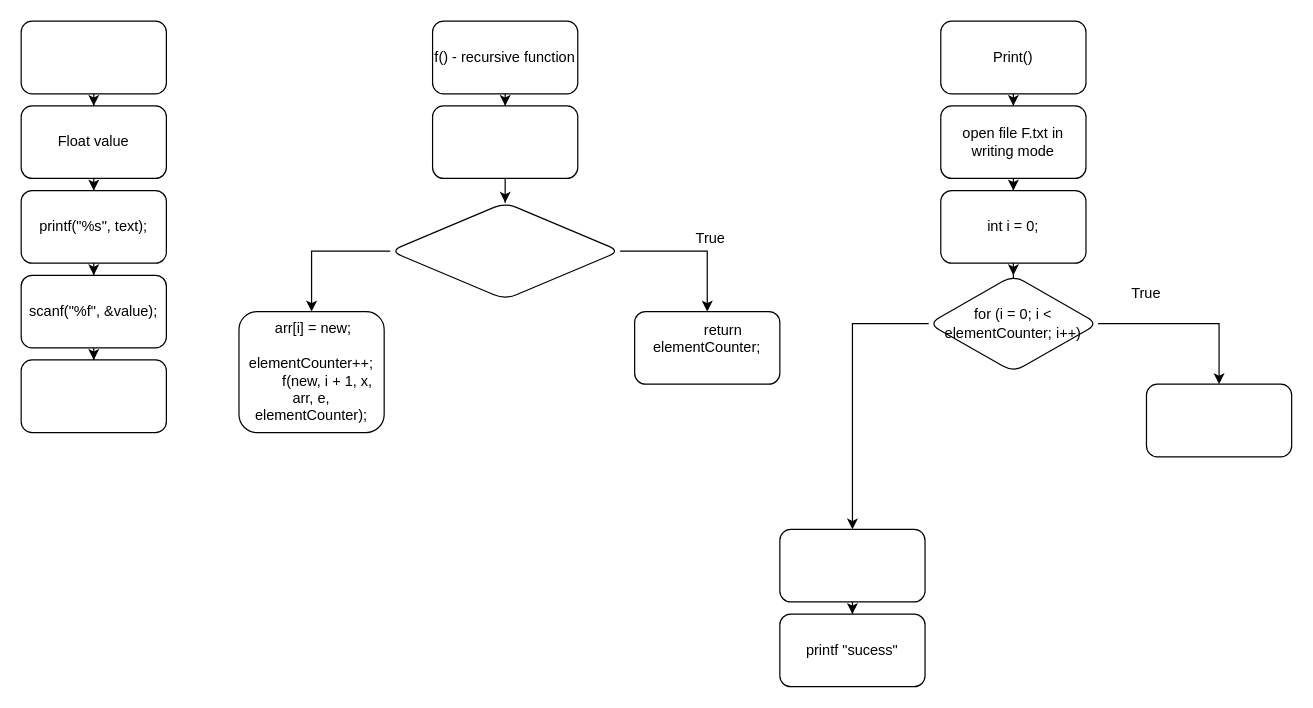
Some shapes in this 1313 by 708 pixel diagram are drawn without their labels. The shapes that lost their labels are listed below. From the top down, each one's centre as x and y in pixels, then its label:
point 93,57: float input Float()
point 504,141: float new = current *(-x * x / 2 / (float)i / (2 * (float)i + 1));
point 504,250: if (fabs(arr[i] - new) <= e)
point 93,396: return value
point 1218,420: fprintf(file, "%f \n", arr[i]);
point 852,565: fprintf number of elements
